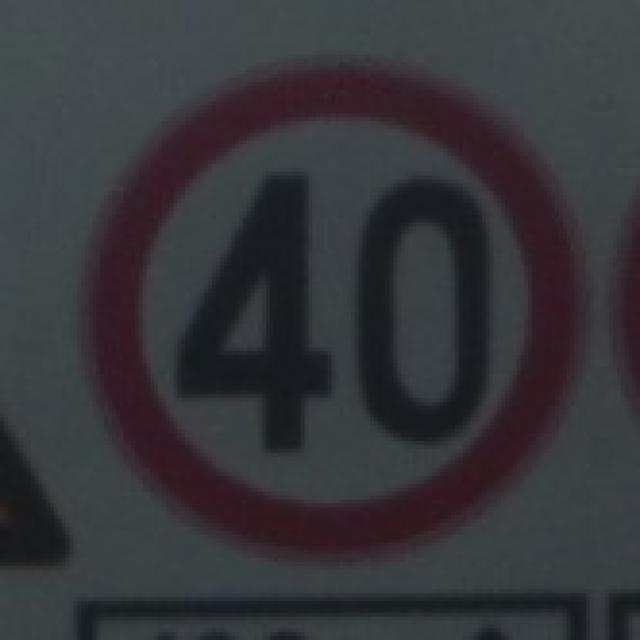Speed Limit -40-: (171, 162, 500, 460)
